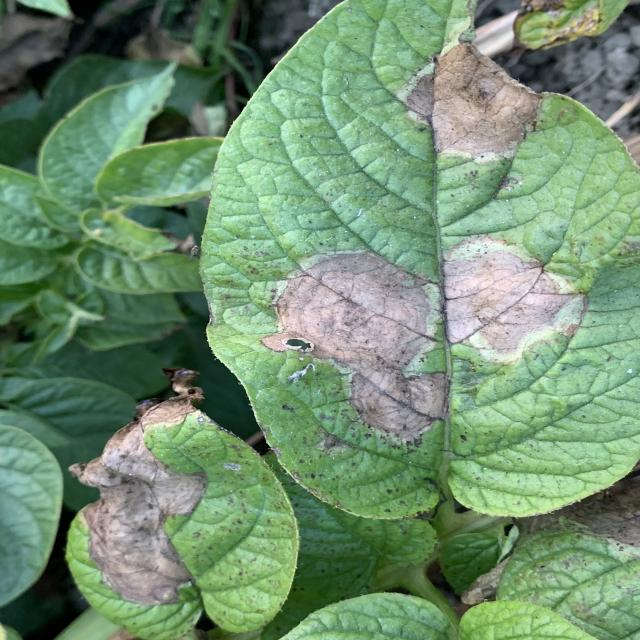lateblight: (262, 252, 447, 440), (70, 396, 207, 605), (443, 236, 587, 364), (407, 44, 540, 159)
